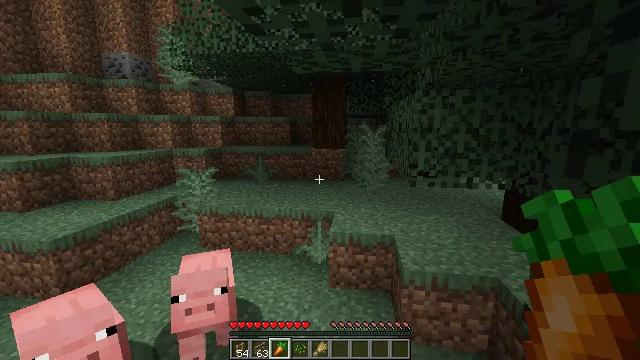pig: (10, 283, 132, 360), (171, 249, 240, 359)
